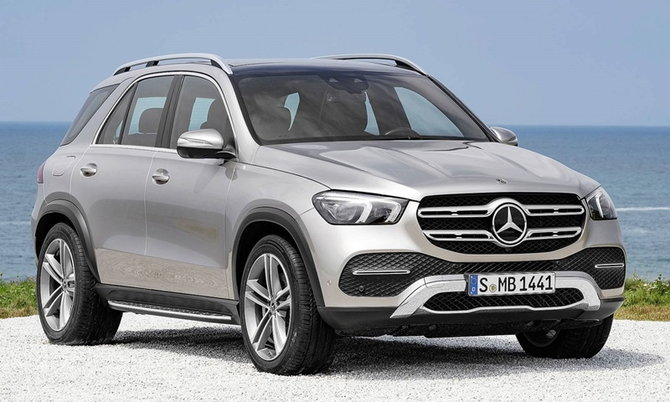pickup: (31, 53, 629, 376)
